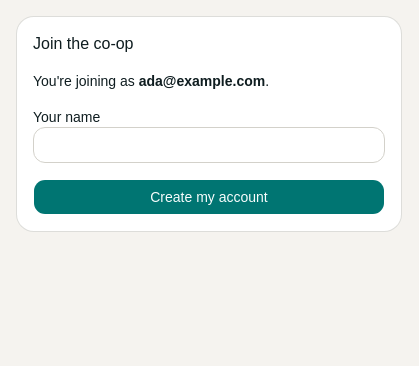
Test: InvitationPage › keeps the form and explains when the account cannot be created
Type "Ada" into the field labelled "Your name" at (209, 145), box [33, 127, 385, 163]
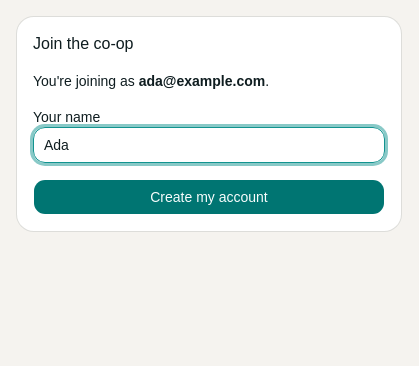
Click the button "Create my account" at (209, 197), box [33, 179, 385, 215]
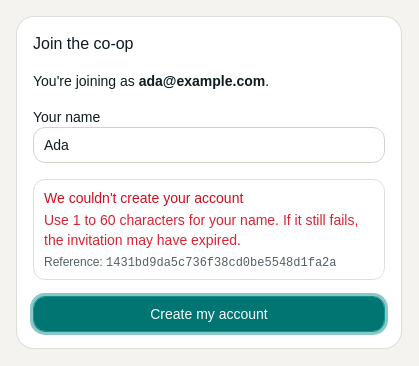
Check: the text "We couldn't create your account" is shown, box [44, 190, 243, 206]
